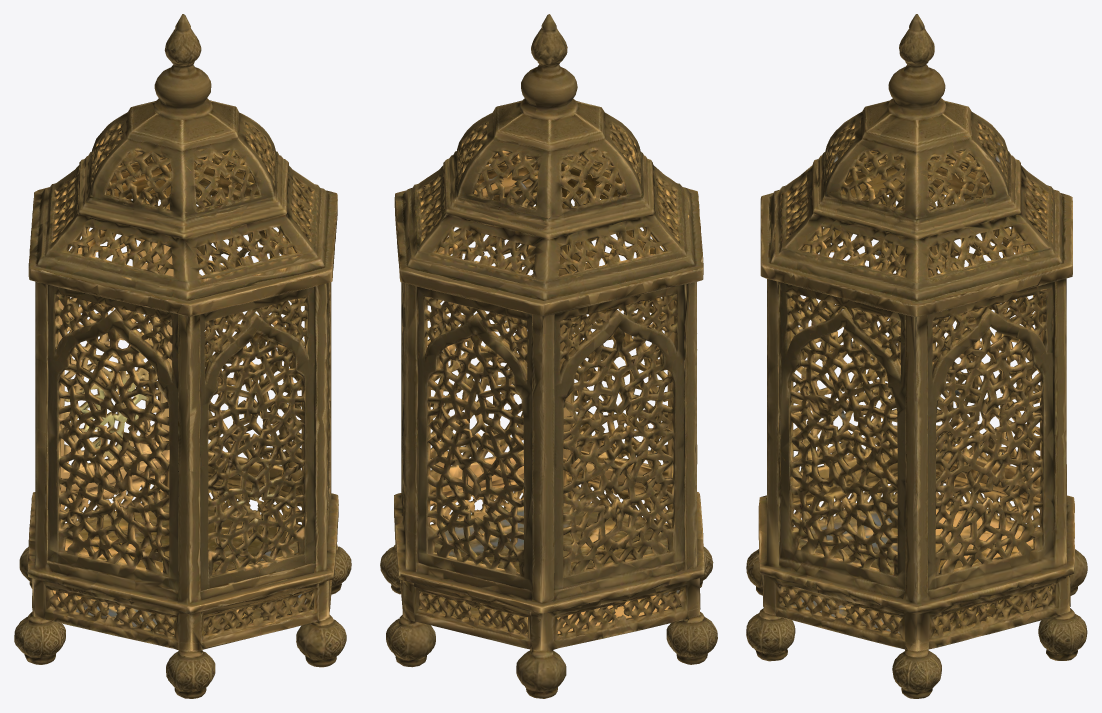
The model's file is lantern_hi.glb.
The picture shows the model from 3 angles, left to right: view 1: azimuth 30°, elevation 25°; view 2: azimuth 150°, elevation 25°; view 3: azimuth 270°, elevation 25°; orthographic projection.
Bounding box in the file's own units: 0.6221 × 1.1 × 0.5573.
1 material, 1 textured.
